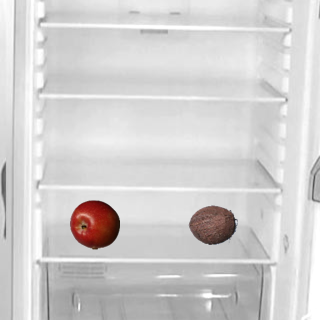Apple Braeburn: (69, 199, 119, 249)
Cocos: (187, 199, 237, 249)
